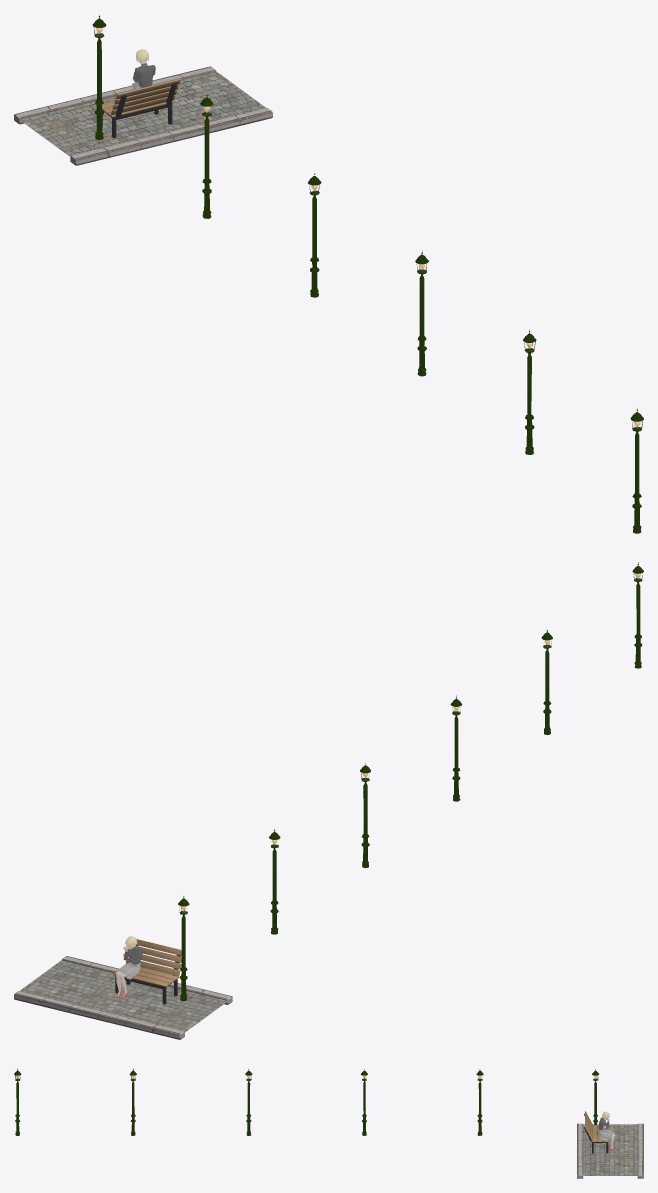
3 renders of one model, top to bottom at view 1: azimuth 30°, elevation 25°; view 2: azimuth 150°, elevation 25°; view 3: azimuth 270°, elevation 25°, orthographic. The views are drawn at different scales.
Visible parts, largest first — view 1: floor_floor_0, lamp_body_lamp_post_0, edge_edge_0, wood_3_wood_0; view 2: floor_floor_0, lamp_body_lamp_post_0, edge_edge_0, wood_3_wood_0, neckware_neckware_0; view 3: floor_floor_0, lamp_body_lamp_post_0, edge_edge_0, neckware_neckware_0, wood_3_wood_0.
Boxes of the visible parts, x1,y1,x2,y2 form: floor_floor_0: [19, 71, 265, 156]; lamp_body_lamp_post_0: [92, 15, 643, 533]; edge_edge_0: [14, 66, 272, 165]; wood_3_wood_0: [96, 79, 180, 117]; floor_floor_0: [20, 960, 227, 1032]; lamp_body_lamp_post_0: [115, 562, 643, 1004]; edge_edge_0: [14, 956, 232, 1039]; wood_3_wood_0: [113, 939, 181, 986]; neckware_neckware_0: [116, 936, 142, 998]; floor_floor_0: [583, 1124, 637, 1175]; lamp_body_lamp_post_0: [14, 1068, 608, 1153]; edge_edge_0: [577, 1123, 643, 1178]; neckware_neckware_0: [598, 1111, 615, 1151]; wood_3_wood_0: [585, 1111, 608, 1142].
Bounding box in the file's own units: 424 × 266 × 2180.
6 materials, 6 textured.
